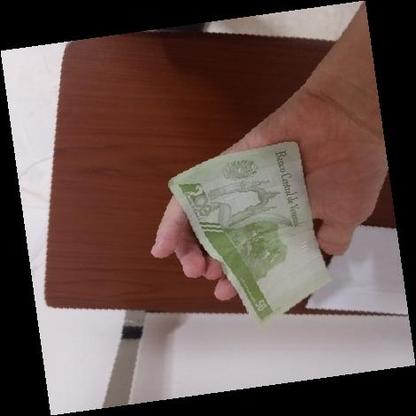fifty-back-vef: (167, 139, 333, 333)
